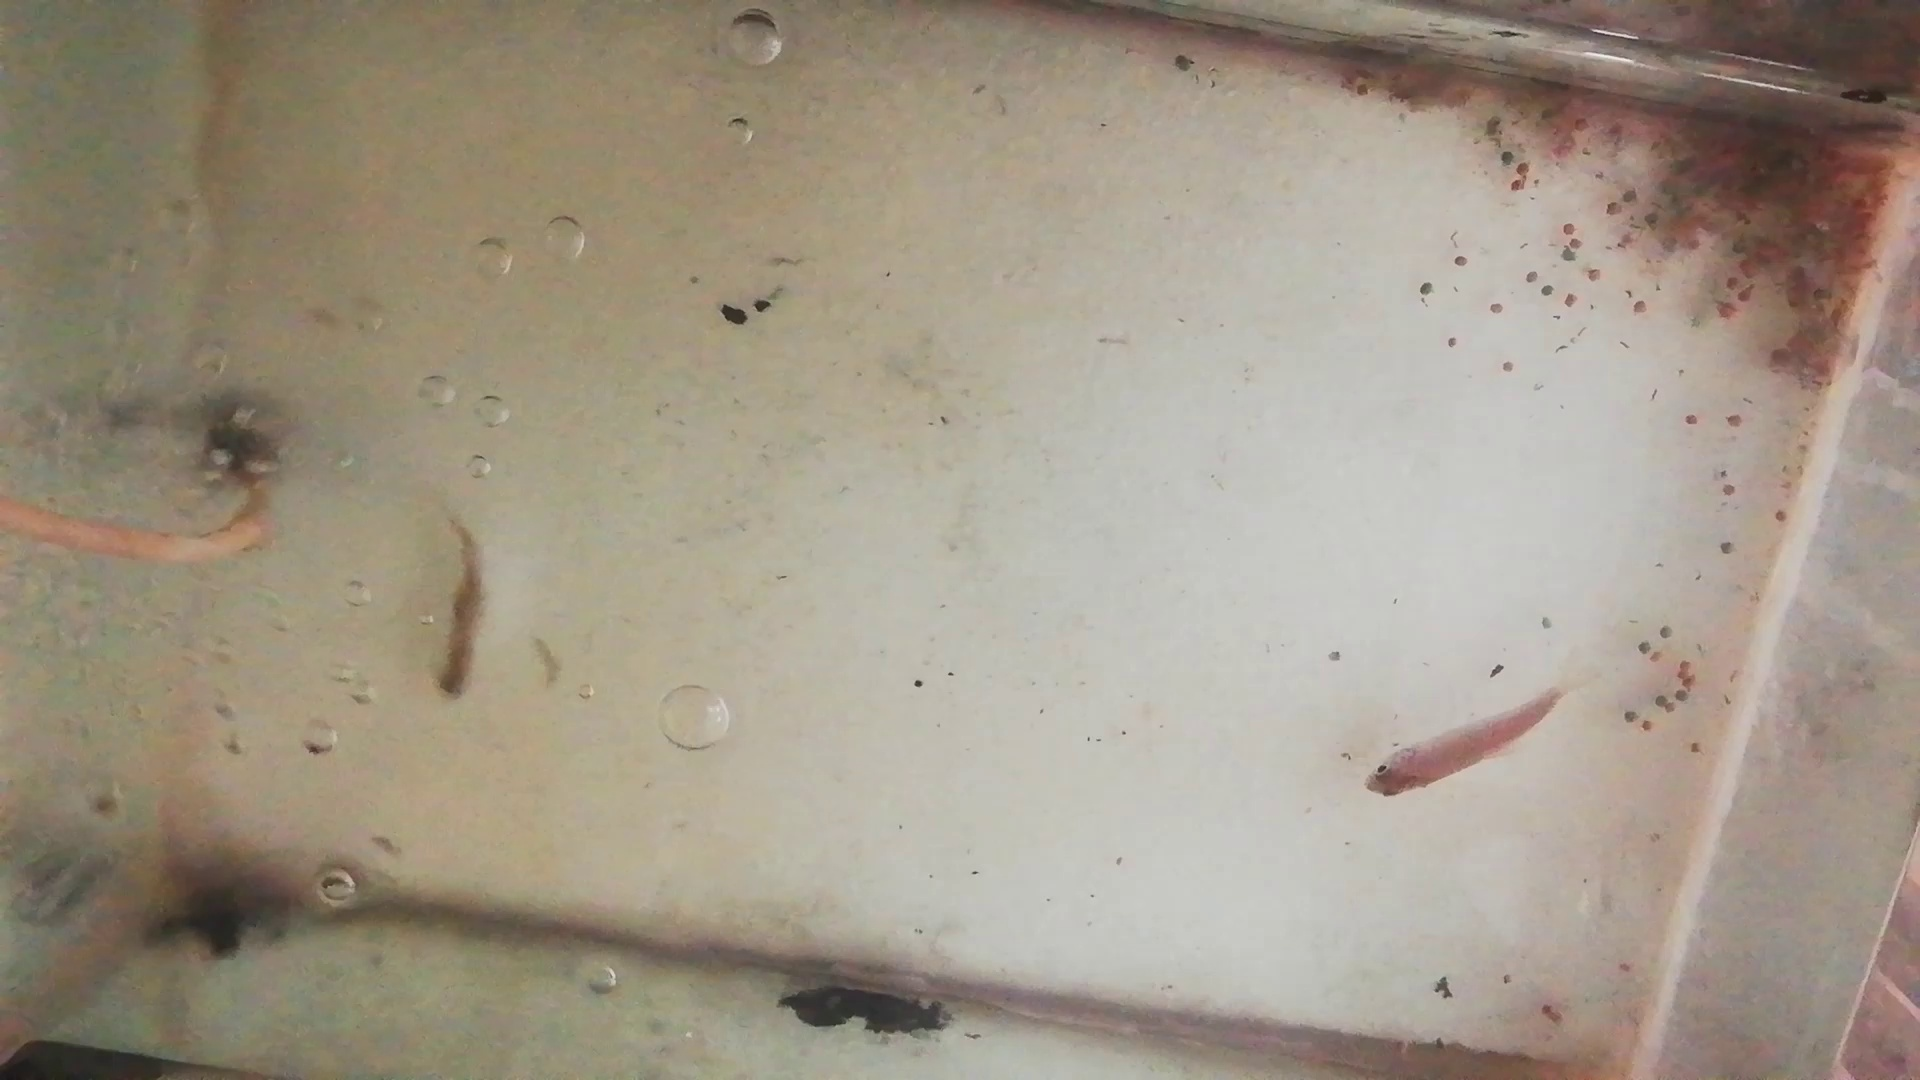fish: (1364, 694, 1563, 804), (431, 513, 489, 703)
